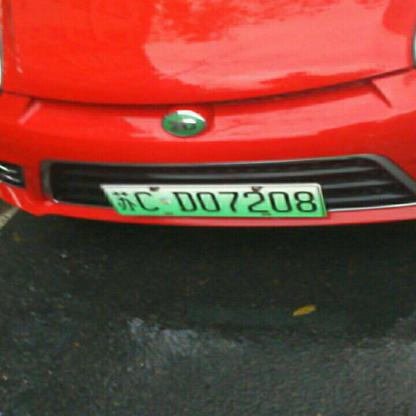lp: (101, 184, 326, 216)
